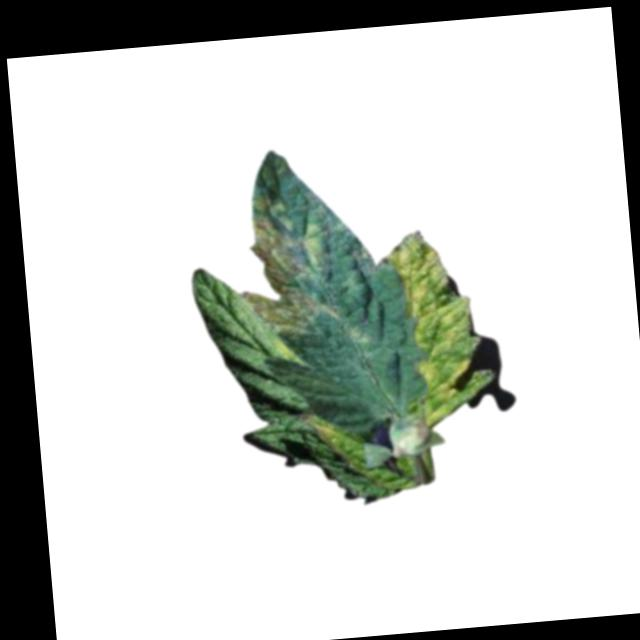Leaf_Mold: (384, 225, 503, 431), (228, 146, 346, 342), (303, 407, 342, 448)
